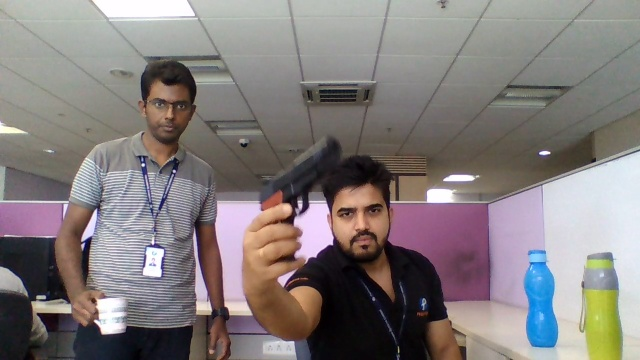gun: (260, 136, 340, 211)
